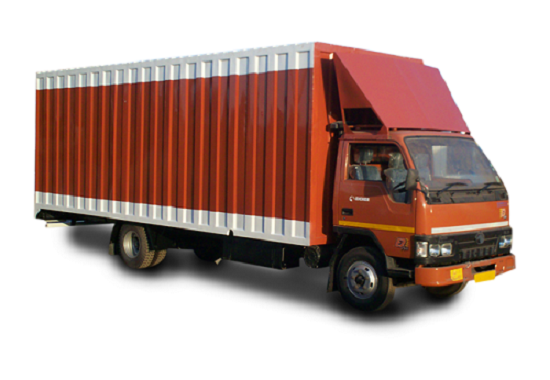truck: (31, 40, 519, 315)
